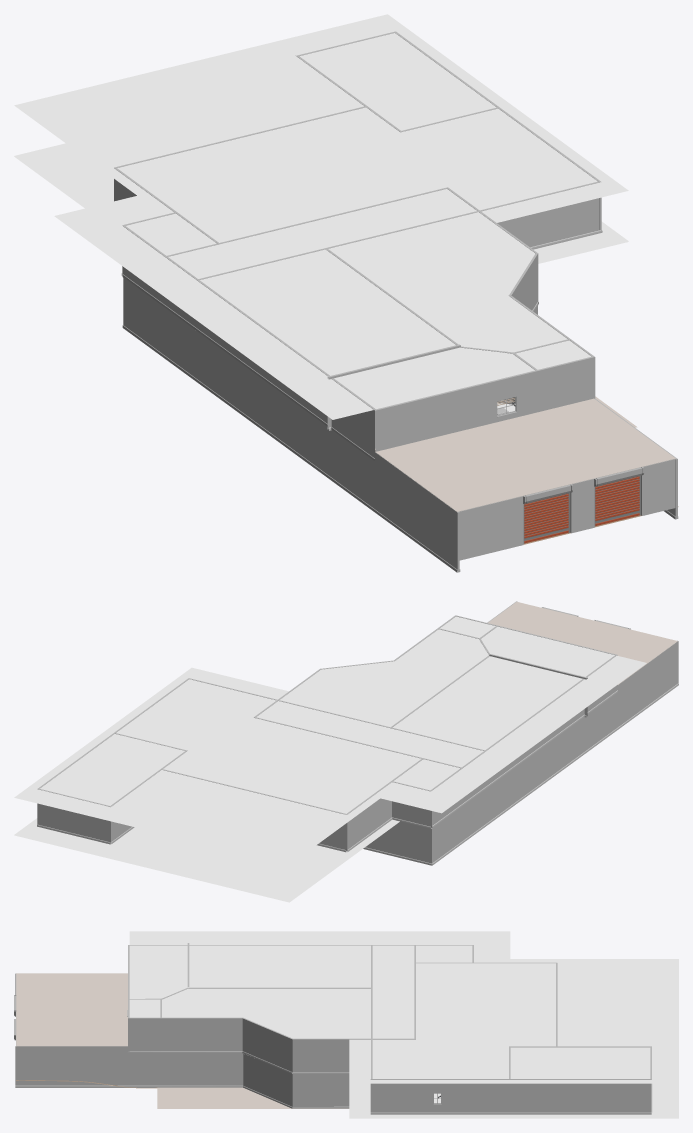
The model's file is new environment.fbx.
3 renders of one model, top to bottom at view 1: azimuth 30°, elevation 25°; view 2: azimuth 150°, elevation 25°; view 3: azimuth 270°, elevation 25°, orthographic. The views are drawn at different scales.
Visible parts, largest first — view 1: Basement_Roof_new_2.004, WallFloor1_09_new_24.001, WallFloor1_09_new_31, Cube__3_, Basement_Roof_new_2, Wall_patch__1_, Rolling_shutter001_1, Rolling_shutter001, Wall_patch__2_, Wall_patch_1; view 2: Basement_Roof_new_2.004, WallFloor1_09_new_24.001, Basement_Roof_new_2, WallFloor1_09_new_31, Cube__3_, WallFloor1_09_new_3.001; view 3: Basement_Roof_new_2.004, WallFloor1_09_new_24.001, WallFloor1_09_new_1.001, Cube__3_, Basement_Roof_new_2, Floor_new, Basement_Roof_new_2.001.
Boxes of the visible parts, x1,y1,x2,y2 form: Basement_Roof_new_2.004: (14,14,628,419); WallFloor1_09_new_24.001: (114,31,602,461); WallFloor1_09_new_31: (122,278,460,572); Cube__3_: (375,398,675,511); Basement_Roof_new_2: (14,143,628,411); Wall_patch__1_: (458,496,523,560); Rolling_shutter001_1: (524,493,568,543); Rolling_shutter001: (595,476,639,525); Wall_patch__2_: (641,457,676,515); Wall_patch_1: (570,478,594,533); Basement_Roof_new_2.004: (14,616,646,864); WallFloor1_09_new_24.001: (37,615,617,852); Basement_Roof_new_2: (14,818,399,901); WallFloor1_09_new_31: (430,640,678,865); Cube__3_: (488,602,677,684); WallFloor1_09_new_3.001: (363,821,432,865); Basement_Roof_new_2.004: (129,931,678,1083); WallFloor1_09_new_24.001: (127,943,652,1114); WallFloor1_09_new_1.001: (15,1046,349,1108); Cube__3_: (16,973,127,1046); Basement_Roof_new_2: (292,1073,678,1118); Floor_new: (157,1087,348,1108); Basement_Roof_new_2.001: (349,1118,678,1118).
Size of the model in its own units: 3157 by 697 by 5822.
